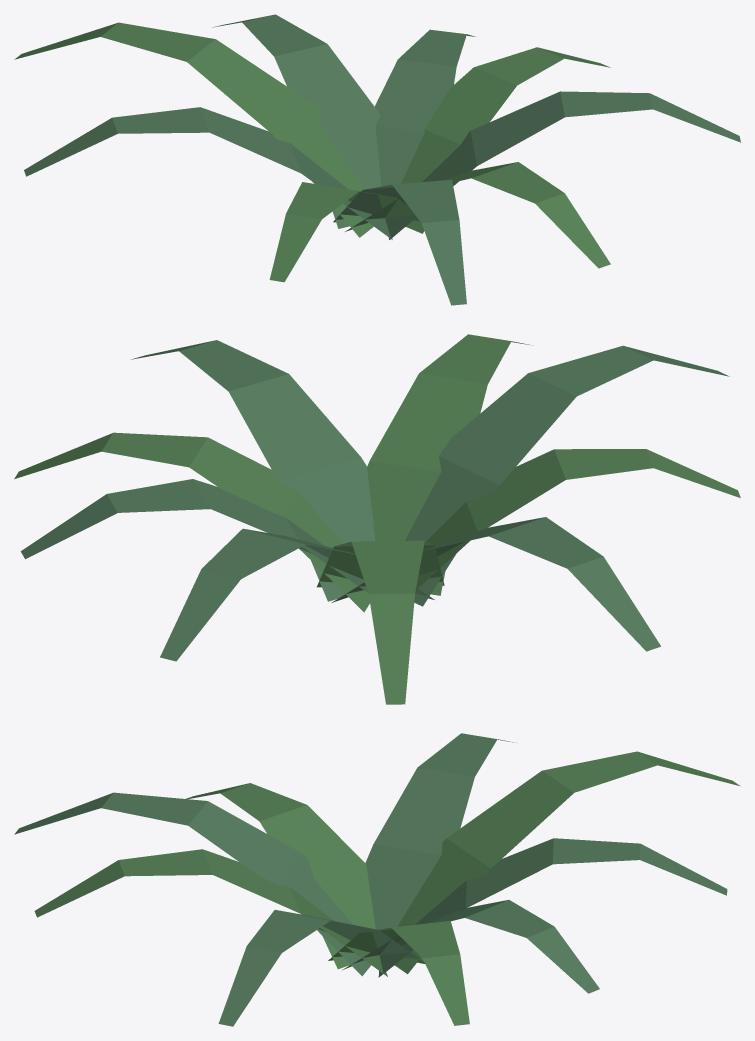
File: fern.glb
3 views of the same model, one above another, from view 1: azimuth 30°, elevation 25°; view 2: azimuth 150°, elevation 25°; view 3: azimuth 270°, elevation 25° (orthographic). The views are drawn at different scales.
Visible parts, largest first — view 1: fern; view 2: fern; view 3: fern.
Part boxes in pixels (x1,y1,x2,y2): fern: (14, 14, 740, 305); fern: (14, 334, 740, 704); fern: (14, 733, 740, 1026).
Bounding box in the file's own units: 1.38 × 0.2863 × 1.49.
